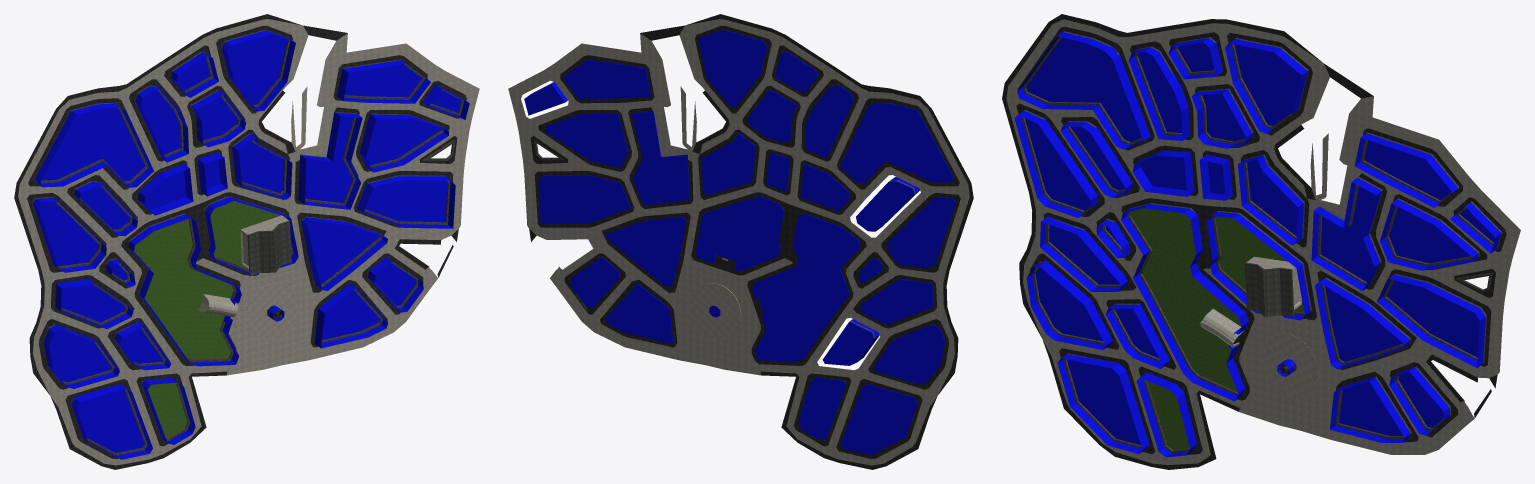
File: stage.glb
3 renders of one model, left to right at view 1: azimuth 30°, elevation 25°; view 2: azimuth 150°, elevation 25°; view 3: azimuth 330°, elevation 25°, orthographic. The views are drawn at different scales.
Visible parts, largest first — view 1: walls, floor, Cylinder.001; view 2: walls, floor; view 3: walls, floor, Cylinder.001.
Part boxes in pixels (x1,y1,x2,y2): walls: [33, 30, 469, 459]; floor: [14, 14, 479, 469]; Cylinder.001: [32, 29, 464, 455]; walls: [524, 29, 955, 455]; floor: [508, 14, 973, 469]; walls: [1014, 32, 1501, 457]; floor: [1002, 14, 1520, 469]; Cylinder.001: [1021, 31, 1502, 452].
Size of the model in its own units: 1197 by 1031 by 58.49.
Materials: 5 (4 with a texture image).
